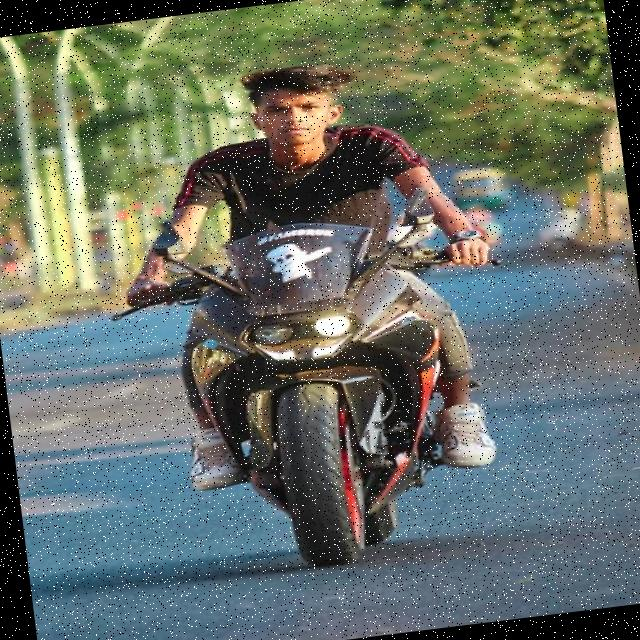No helmet: (240, 50, 363, 172)
